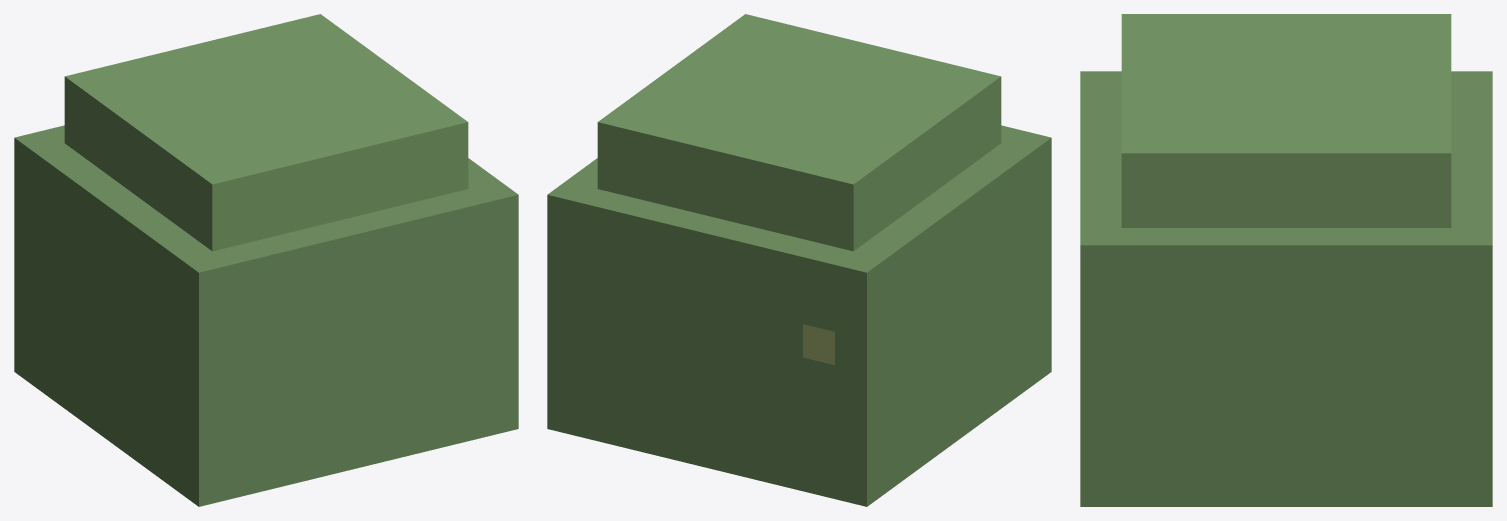
File: grosella_espinosa_02.glb
3 views of the same model, side by side, from view 1: azimuth 30°, elevation 25°; view 2: azimuth 150°, elevation 25°; view 3: azimuth 270°, elevation 25° (orthographic). The views are drawn at different scales.
Parts seen in each view (by area): view 1: grosella_espinosa_02; view 2: grosella_espinosa_02; view 3: grosella_espinosa_02.
Part boxes in pixels (box(x1,y1,x2,y2)): grosella_espinosa_02: box(14, 14, 518, 506); grosella_espinosa_02: box(547, 14, 1051, 506); grosella_espinosa_02: box(1080, 14, 1492, 506).
Bounding box in the file's own units: 1 × 0.9 × 1.
